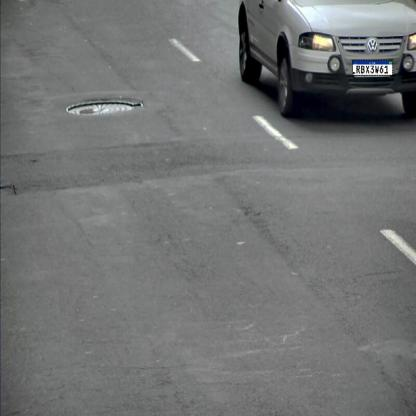PlacaM: (352, 60, 393, 76)
